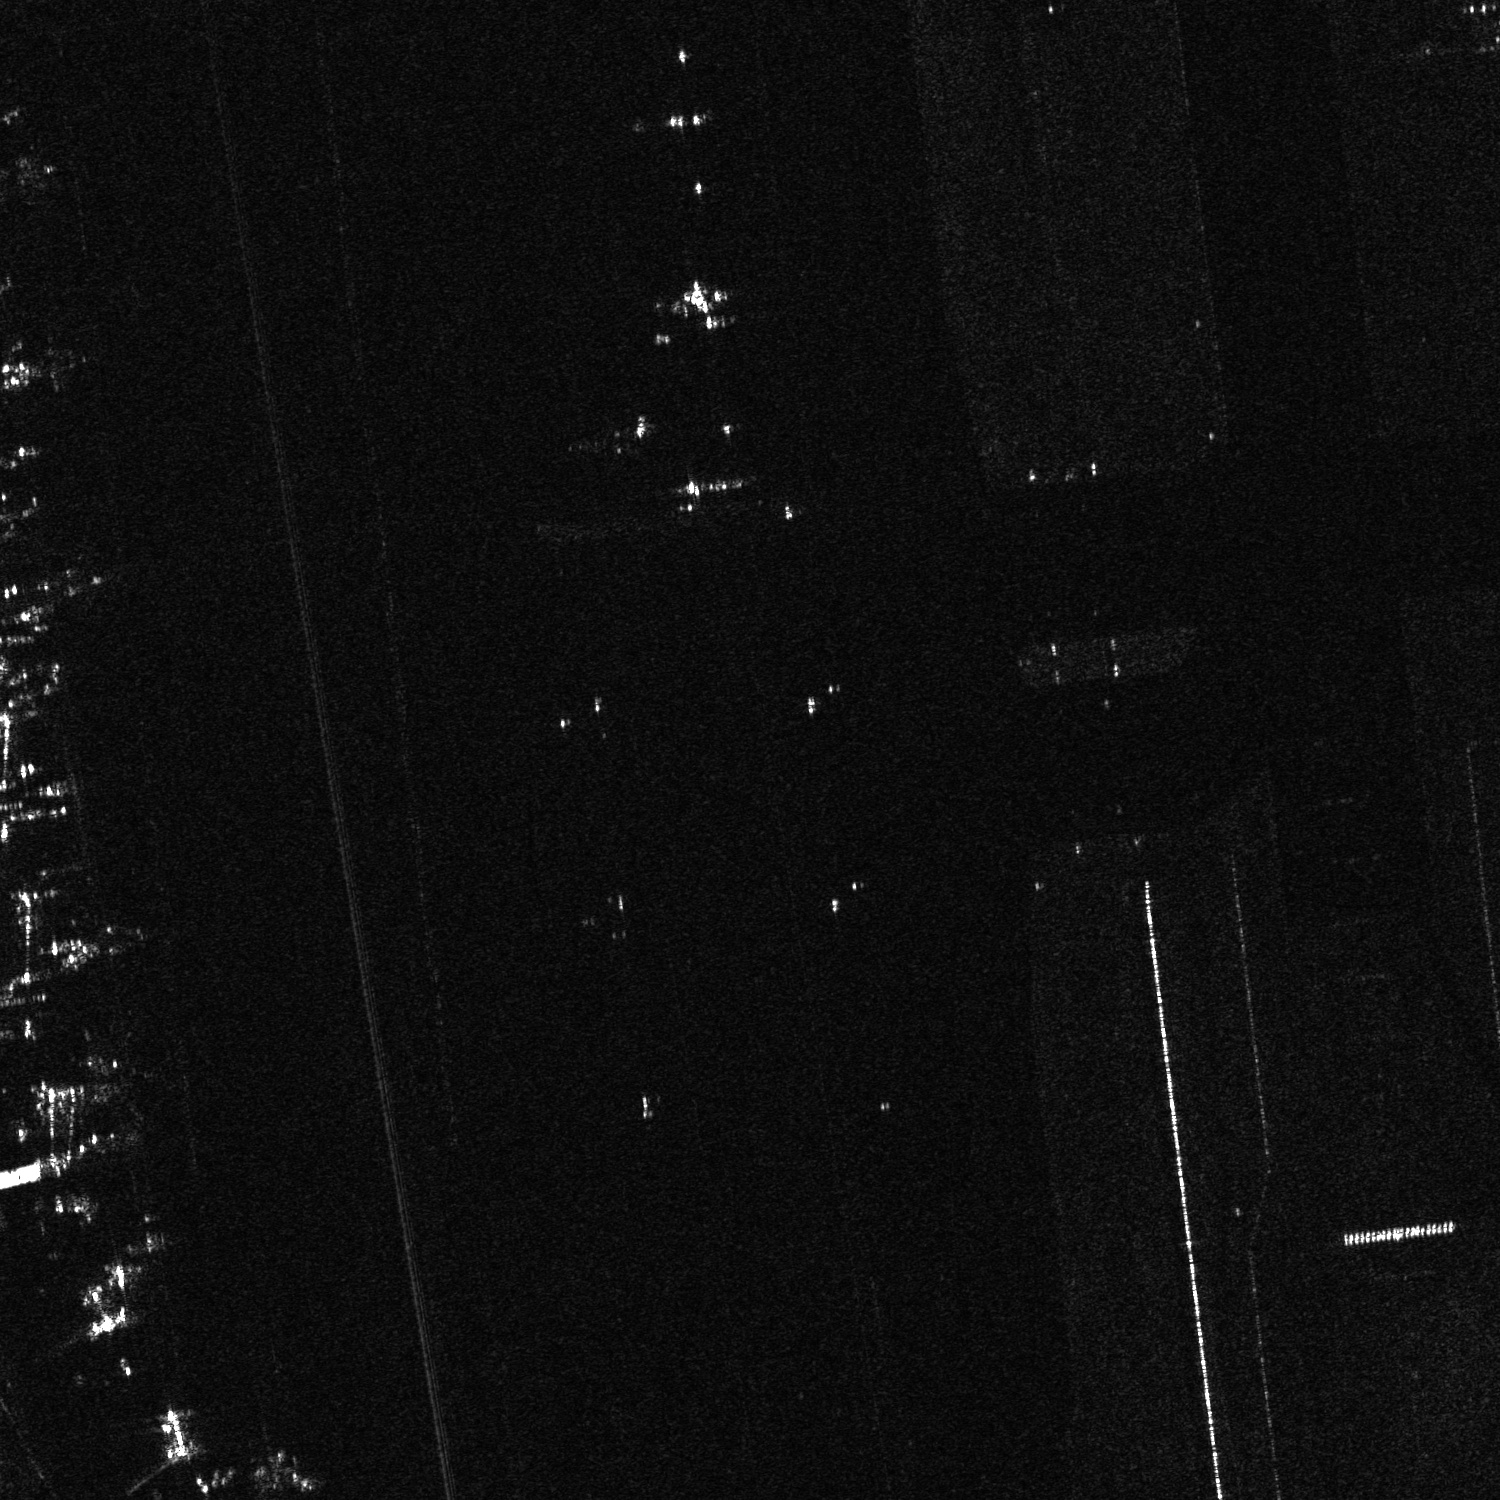A220: (670, 273, 734, 332)
